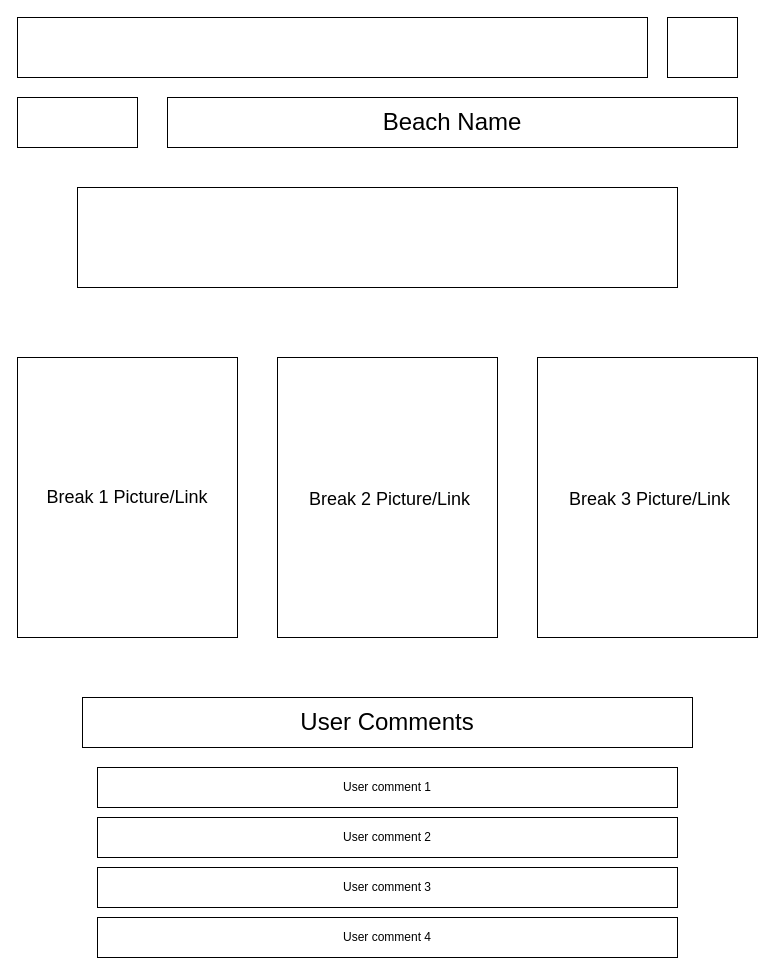
This 775x975 diagram has some shape labels left out. The shapes that lost their labels are listed below. From the top down, each one's centre as x and y in pixels, then its label:
(332,47): SURF BLOG
(702,47): Nav Tool
(77,122): Beach Dropdown
(377,237): Current Weather
